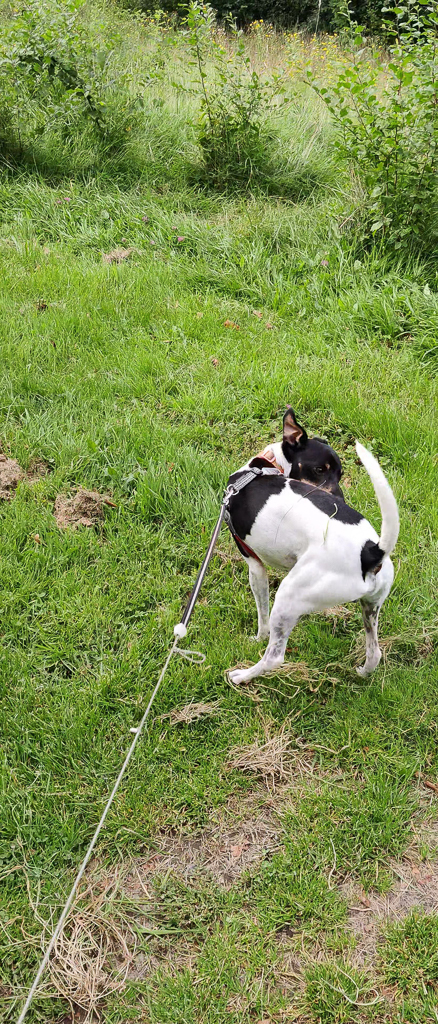Dog: (190, 402, 411, 695)
